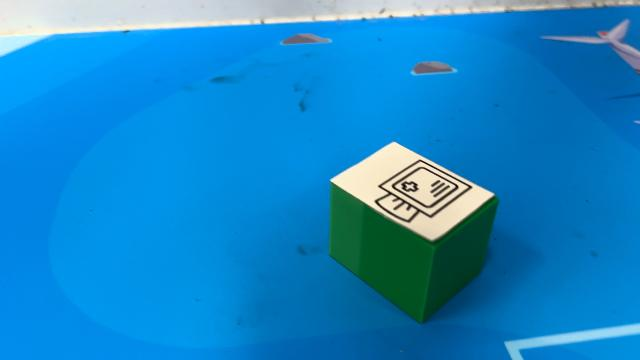napkin: (327, 140, 501, 324)
